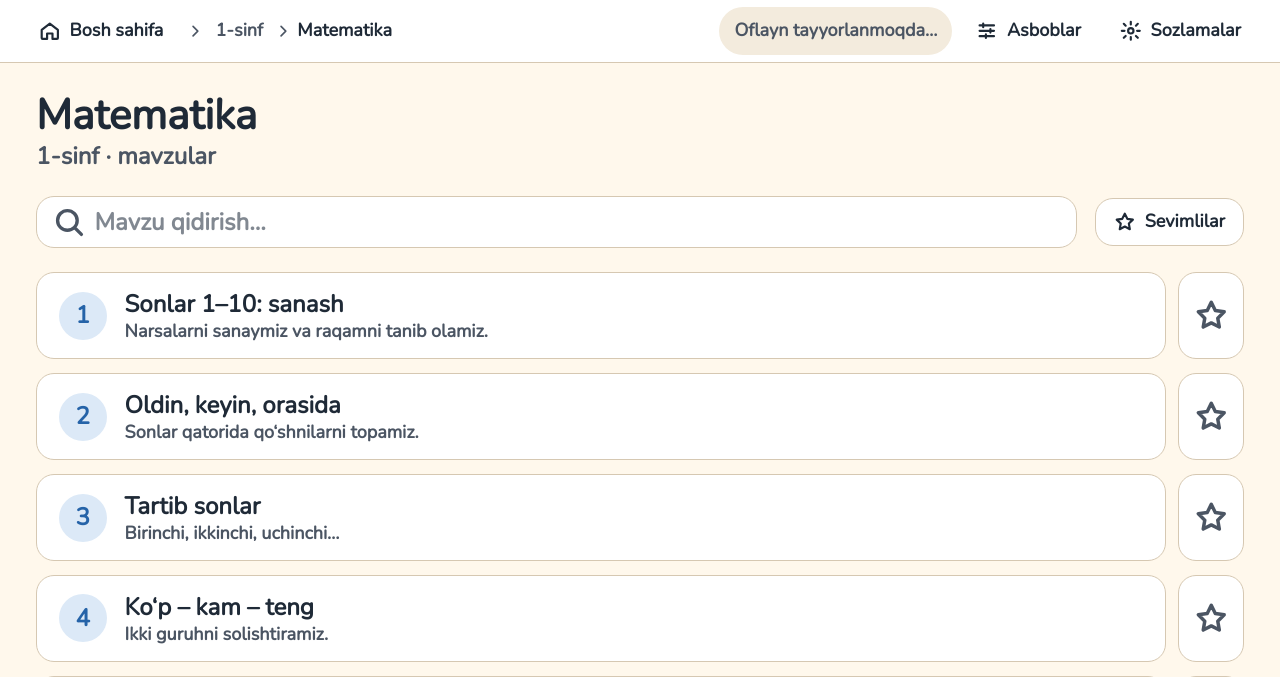
sahifalar › fan sahifasida qidiruv va sevimlilar ishlaydi
The image size is (1280, 677).
Step 1. Type "qo'shish" into the search field → (578, 222), box [95, 197, 1061, 247]
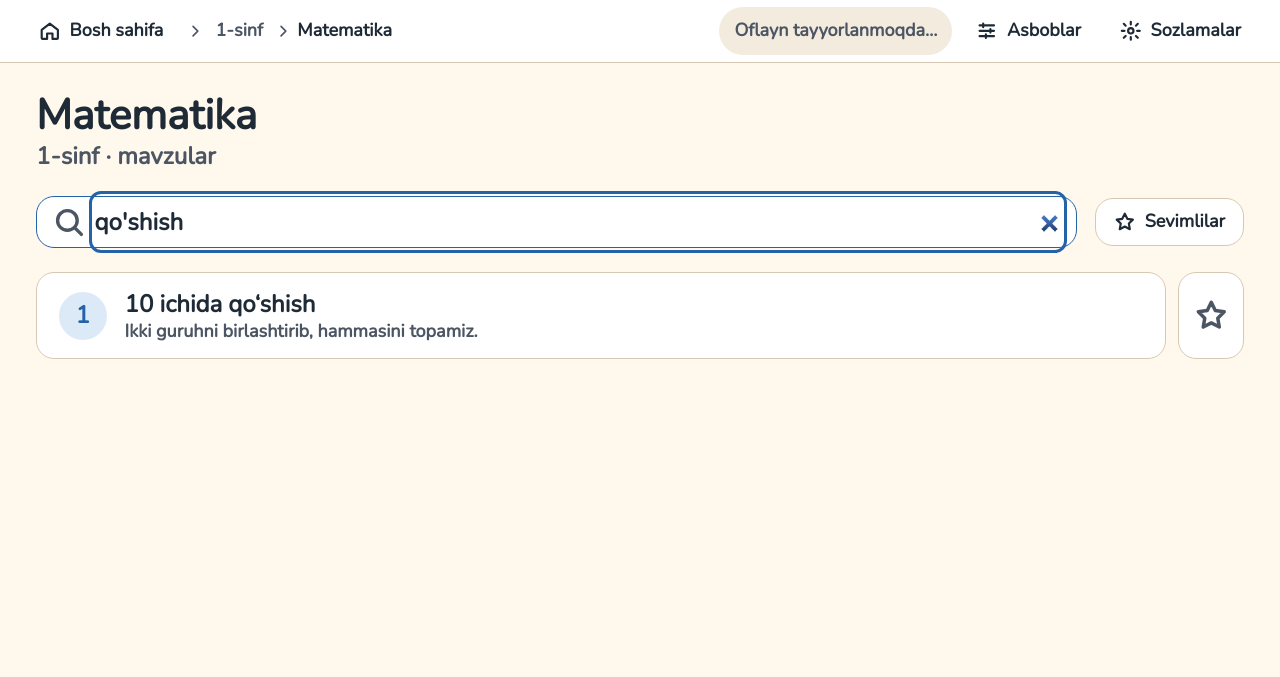
expect the number of list items is 1: met, box [36, 272, 1244, 359]
Step 2. Clear the search field → (578, 222), box [95, 197, 1061, 247]
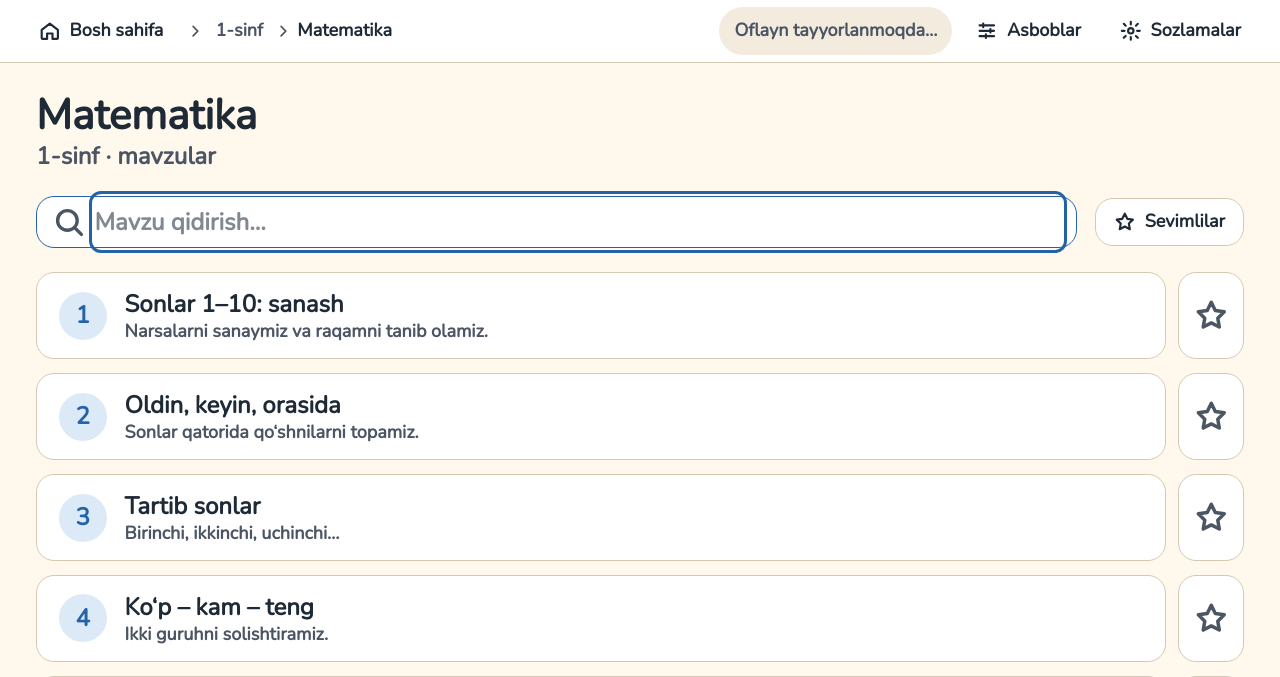
Step 3. Click the button named "Ko‘p – kam – teng — sevimlilarga" → (1211, 618), box [1178, 575, 1244, 662]
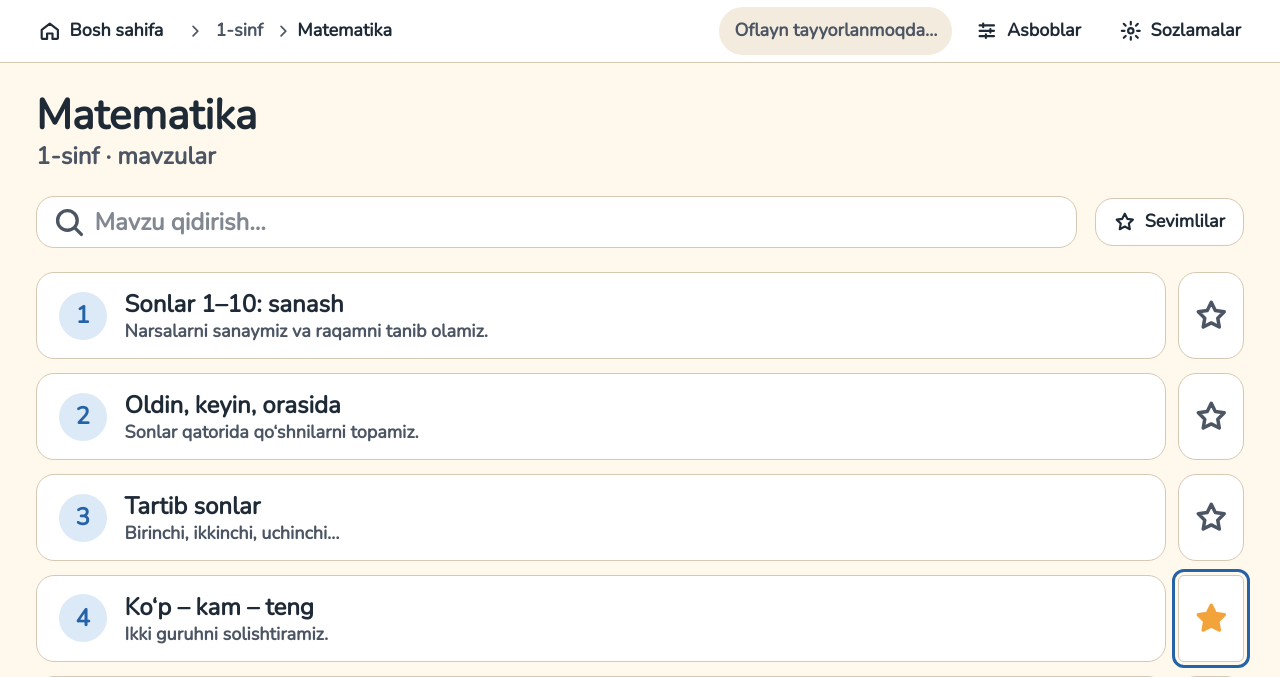
Step 4. Click the button "Sevimlilar" → (1170, 222), box [1095, 198, 1244, 246]
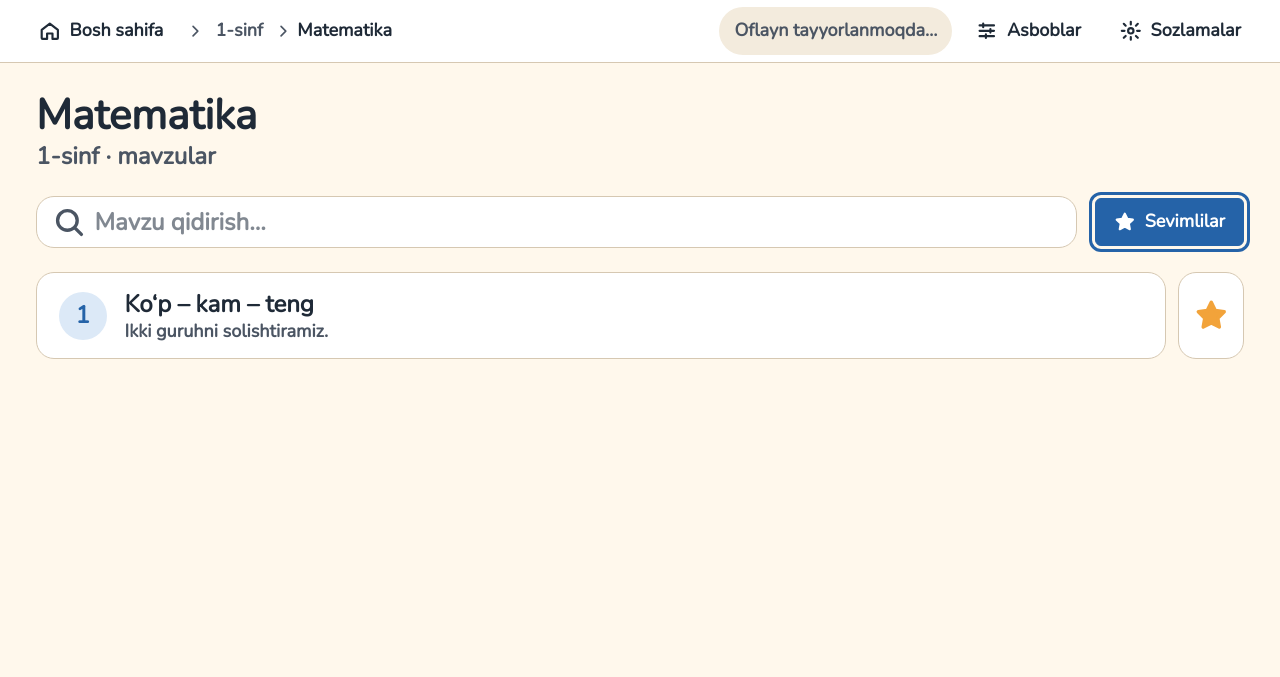
expect the number of list items is 1: met, box [36, 272, 1244, 359]
